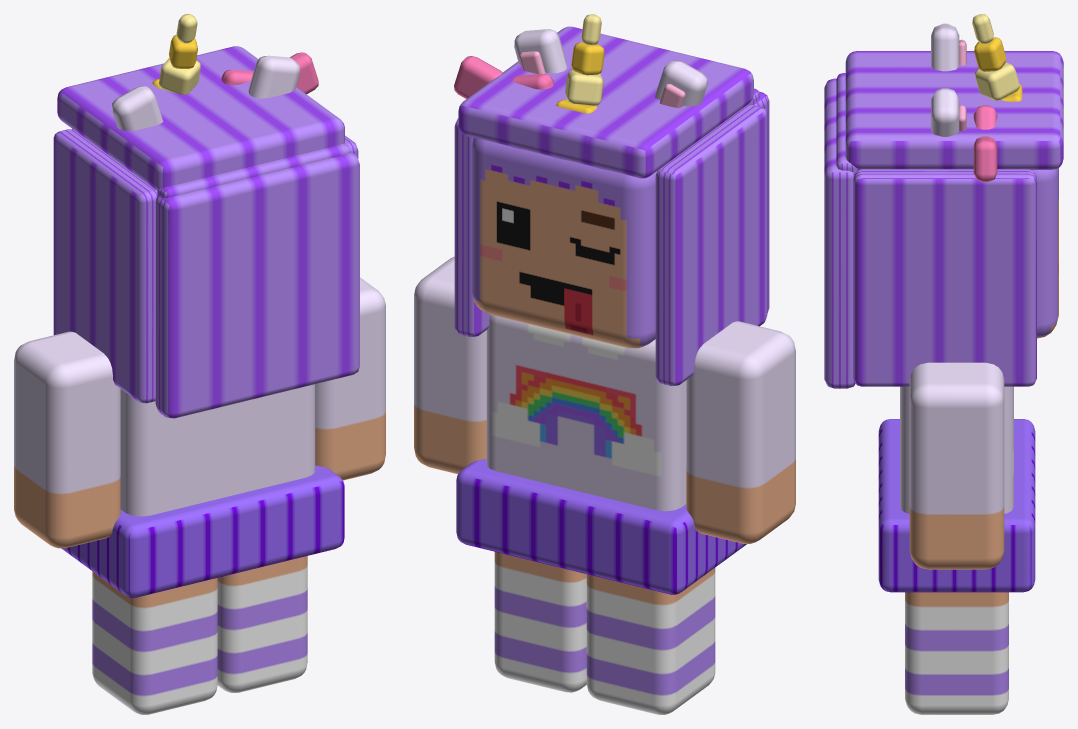
The model's file is unicorn-Dh9SbwMa.glb.
3 views of the same model, side by side, from view 1: azimuth 30°, elevation 25°; view 2: azimuth 150°, elevation 25°; view 3: azimuth 270°, elevation 25° (orthographic). The views are drawn at different scales.
Parts seen in each view (by area): view 1: neck_mesh, hips_mesh, armL_mesh, legL_mesh, legR_mesh, armR_mesh; view 2: neck_mesh, hips_mesh, armL_mesh, legL_mesh, armR_mesh, legR_mesh; view 3: neck_mesh, armR_mesh, hips_mesh, legR_mesh.
Part boxes in pixels (x1,y1,x2,y2): neck_mesh: (53, 14, 359, 418); hips_mesh: (61, 384, 344, 597); armL_mesh: (14, 331, 120, 548); legL_mesh: (92, 571, 217, 714); legR_mesh: (217, 556, 307, 692); armR_mesh: (315, 277, 385, 480); neck_mesh: (454, 14, 769, 385); hips_mesh: (456, 314, 746, 594); armL_mesh: (686, 321, 795, 543); legL_mesh: (586, 568, 715, 714); armR_mesh: (414, 256, 486, 474); legR_mesh: (494, 552, 586, 692); neck_mesh: (824, 14, 1063, 388); armR_mesh: (909, 362, 1004, 569); hips_mesh: (878, 386, 1035, 592); legR_mesh: (905, 592, 1008, 714).
Bounding box in the file's own units: 1.66 × 3.09 × 1.01.
Materials: 1 (1 with a texture image).
